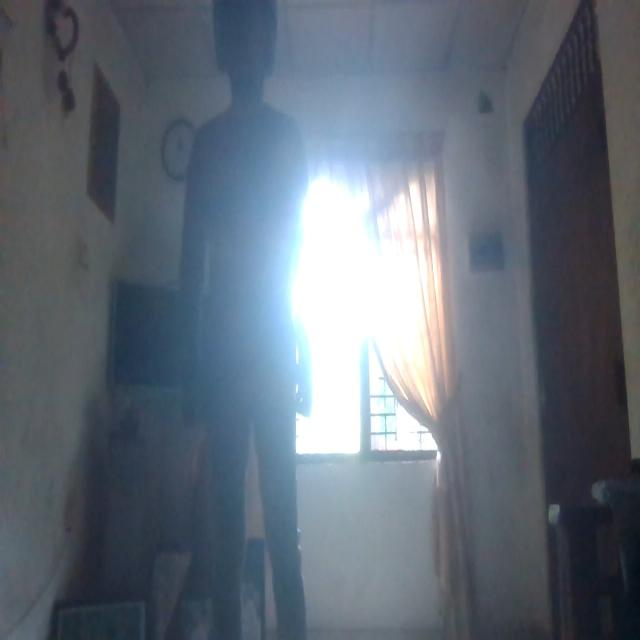Helmet_Wearer: (203, 0, 293, 98)
Person: (188, 0, 314, 640)
